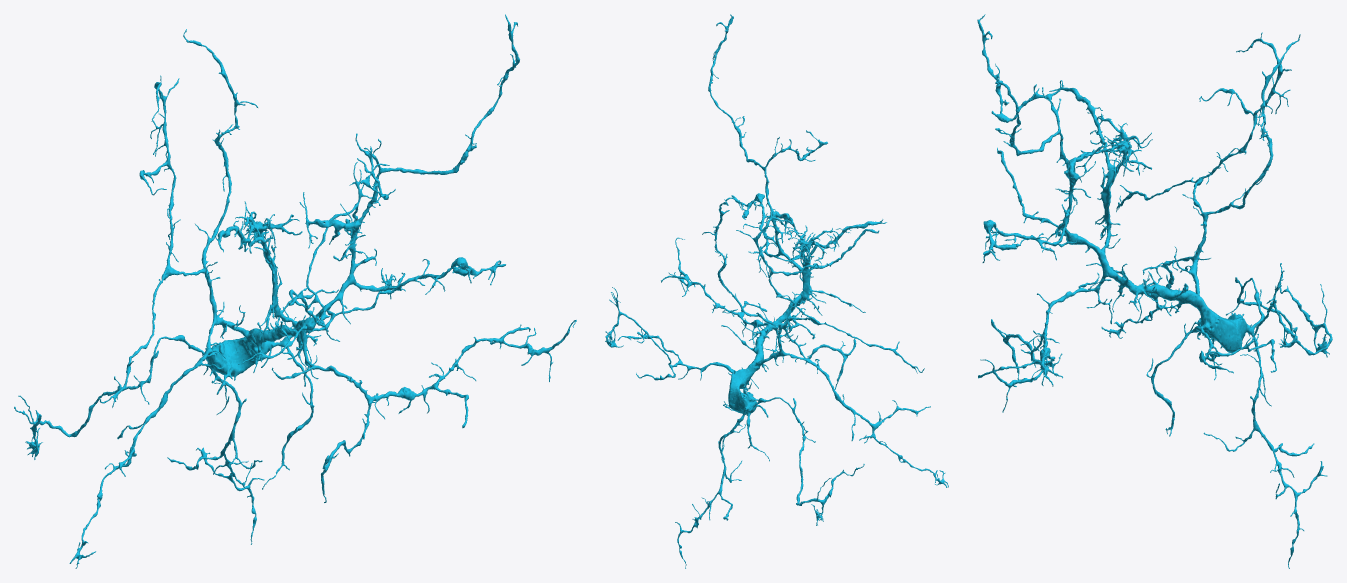
Rendered from example_micro.glb.
The picture shows the model from 3 angles, left to right: view 1: azimuth 30°, elevation 25°; view 2: azimuth 150°, elevation 25°; view 3: azimuth 270°, elevation 25°; orthographic projection. The views are drawn at different scales.
Parts seen in each view (by area): view 1: 1143990345_micro; view 2: 1143990345_micro; view 3: 1143990345_micro.
Part boxes in pixels (<box>): 1143990345_micro: <box>14,14,576,568</box>; 1143990345_micro: <box>605,14,948,568</box>; 1143990345_micro: <box>977,14,1332,568</box>.
Bounding box in the file's own units: 0.8194 × 1.11 × 0.5955.
